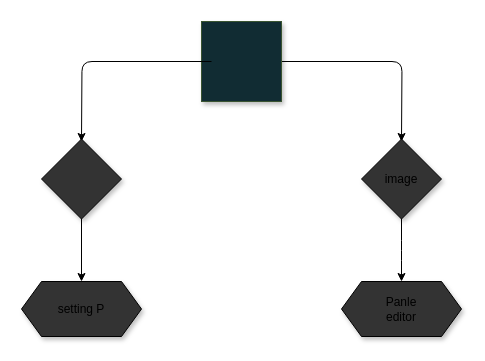
The diagram is 485 pixels wide and 361 high, and some of its shapes have lost their labels. Each missing label, with the centre of its shape:
"container" belongs at point (242, 62).
"setting B" belongs at point (82, 180).
